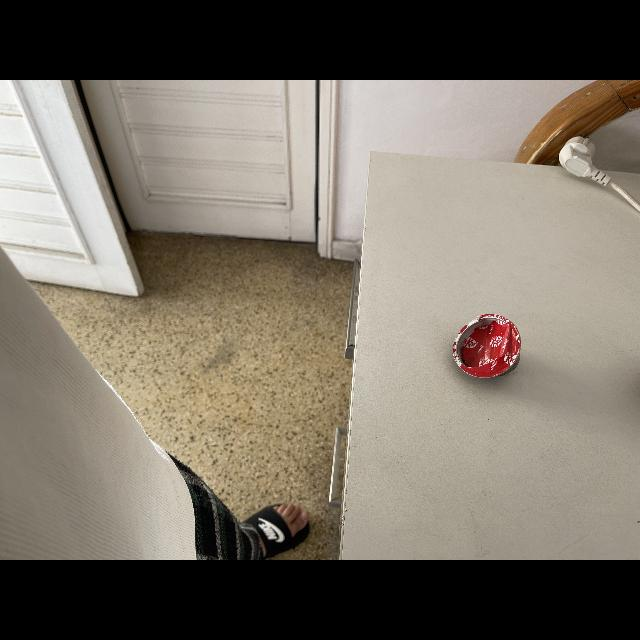damaged_capsule: (444, 312, 532, 386)
